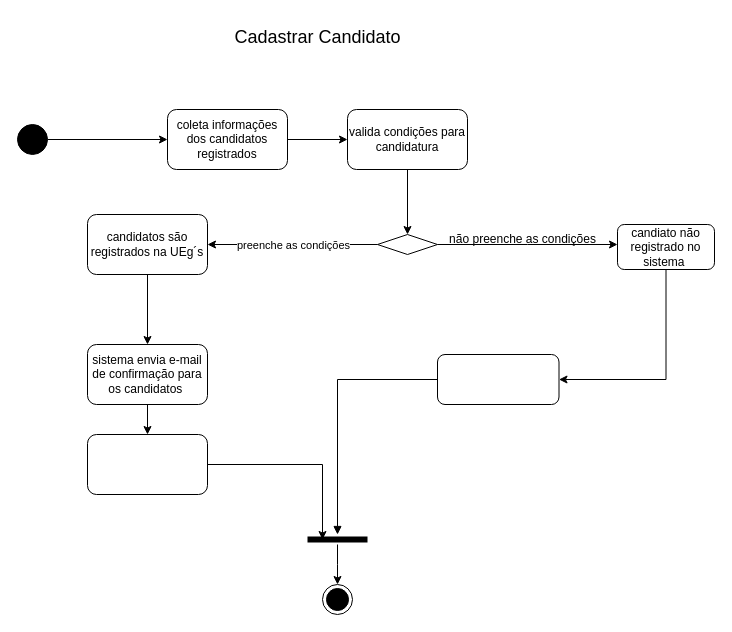
Image size: 732x632. Some labels were removed from this diagram. Each missing label, with the box of its shape:
Gera um relatório de candidatos registrados: (86, 434, 208, 494)
sistema envia e-mail de inaptidão: (436, 354, 559, 404)
